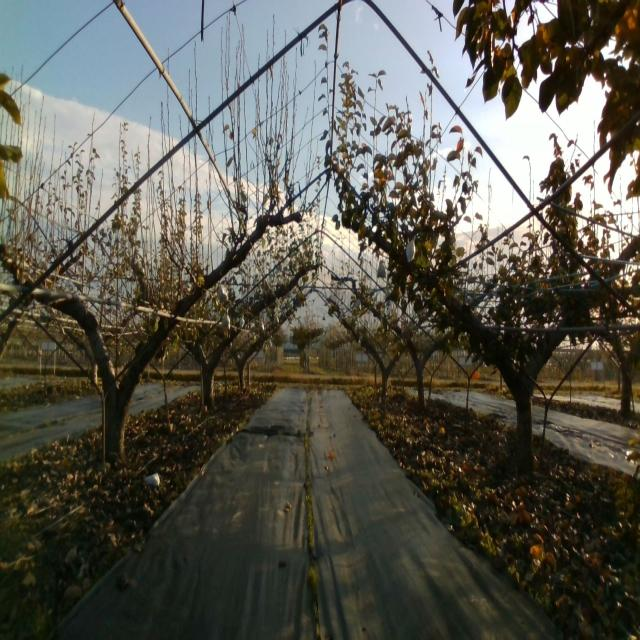pearbags: (406, 238, 416, 262)
